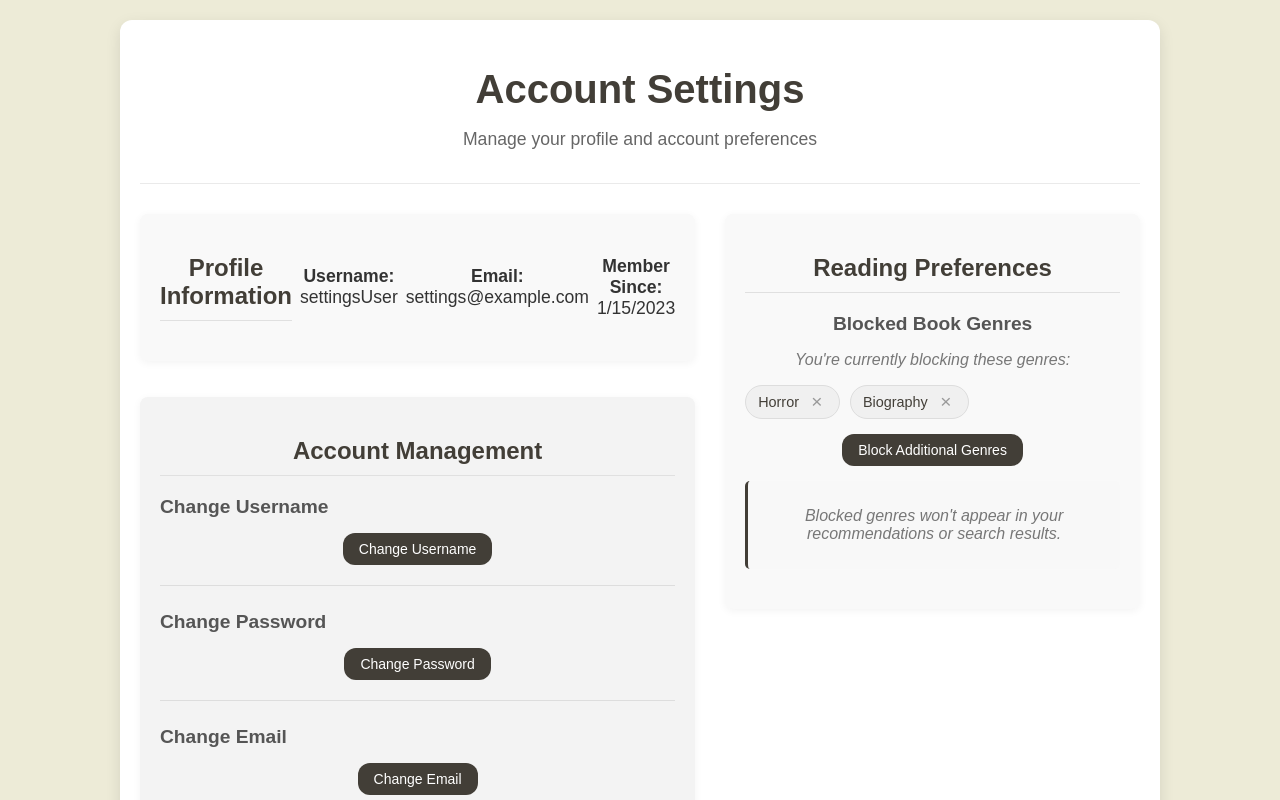
it: Settings Component › shows error if new email is empty and handles successful email update with logout
The width and height of the screenshot is (1280, 800).
Step 1. Click the button "Change Email" → [418, 779], box [358, 763, 478, 795]
(page scrolled)
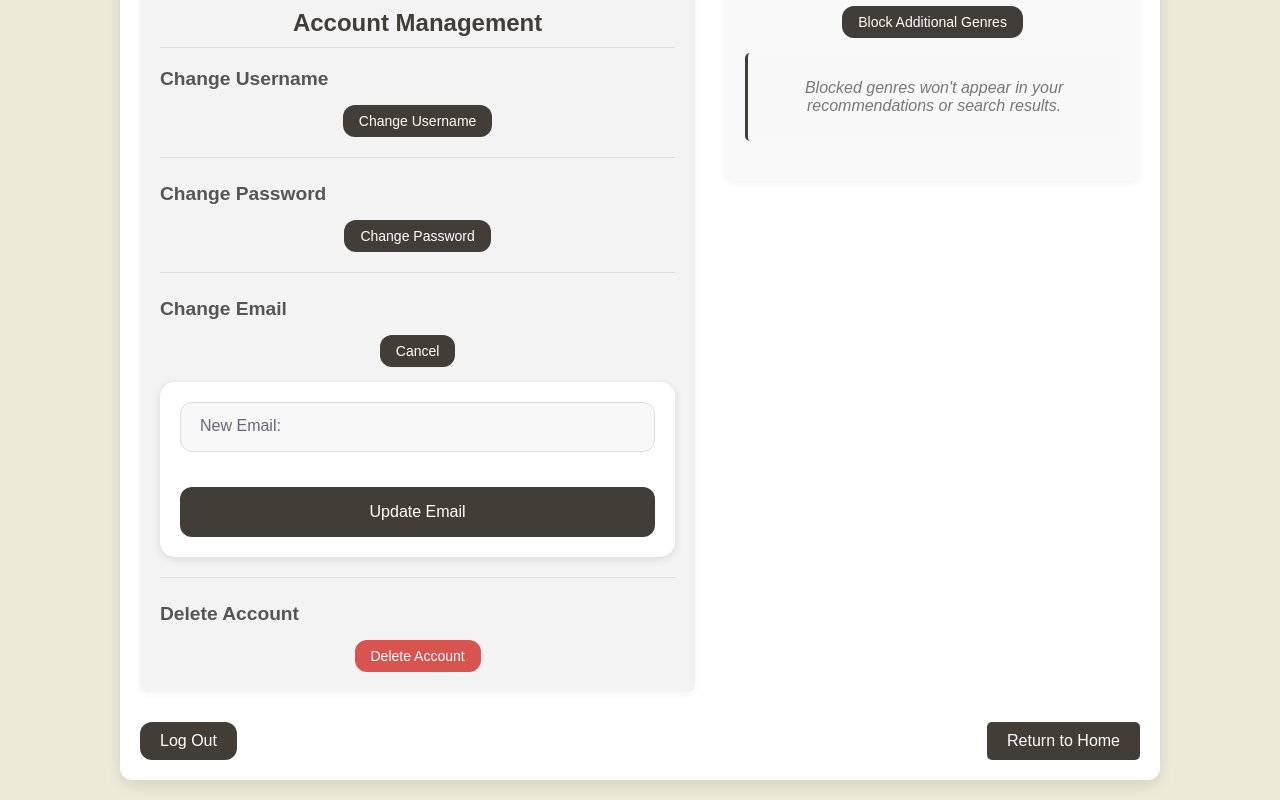
Result: the field labelled "New Email:" is shown
Step 2. Clear the field labelled "New Email:" → [418, 427], box [180, 402, 655, 452]
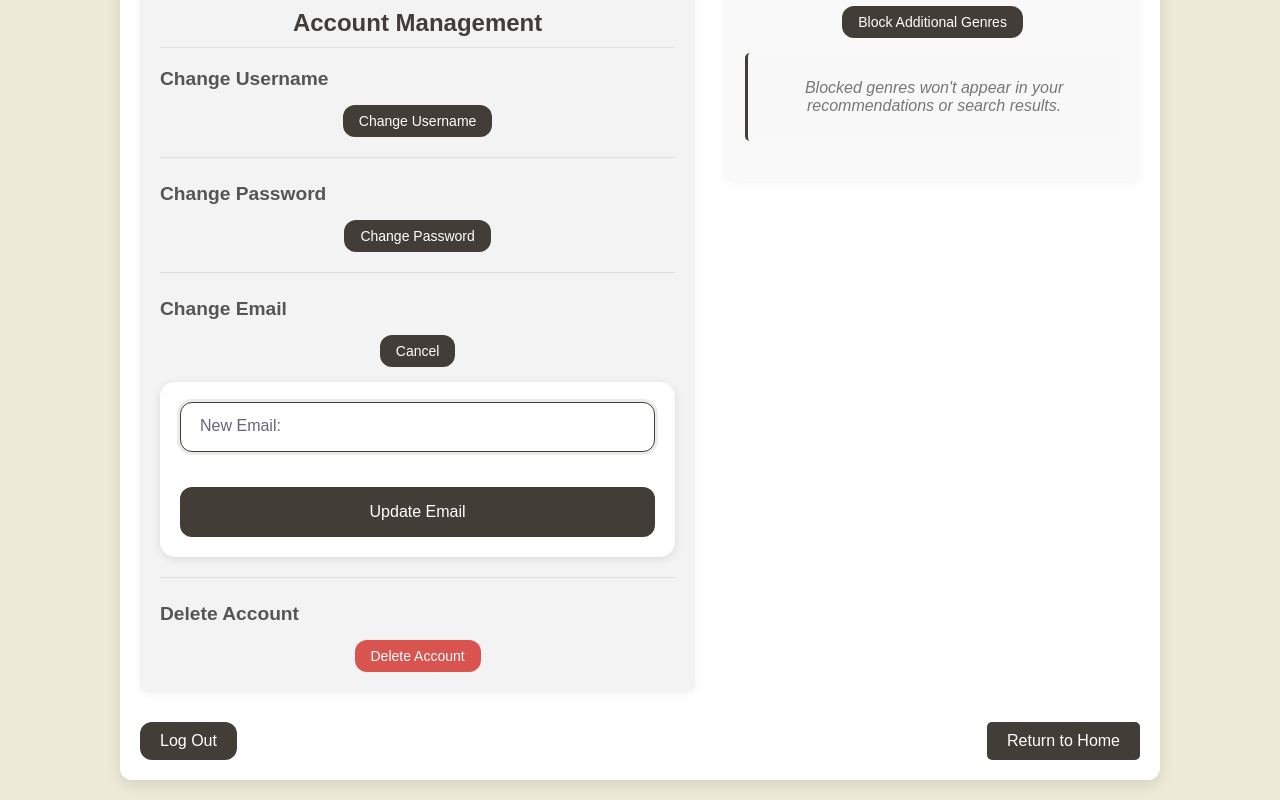
Step 3. Submit the form, box [160, 382, 675, 557]
Step 4. Type "newemail@example.com" into the field labelled "New Email:" → [418, 427], box [180, 402, 655, 452]
(page scrolled)
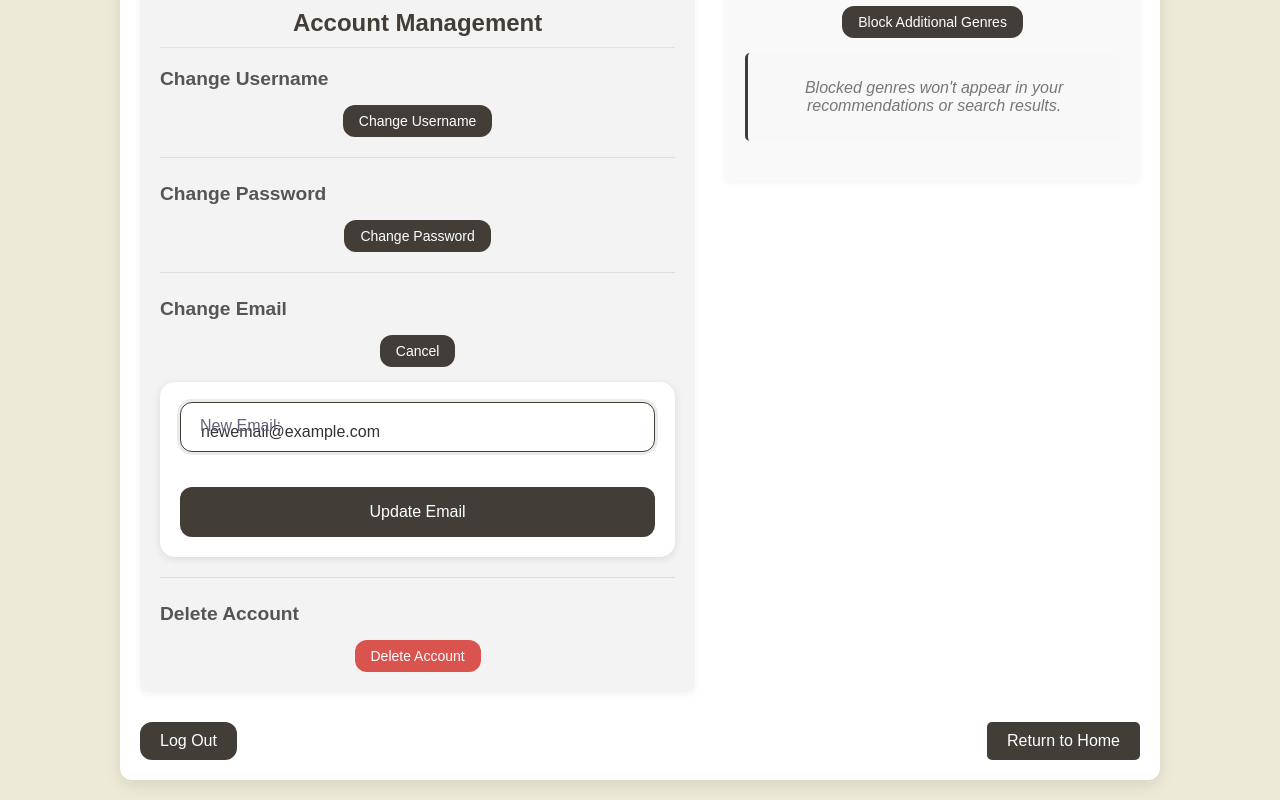
Step 5. Submit the form, box [160, 382, 675, 557]
(page scrolled)
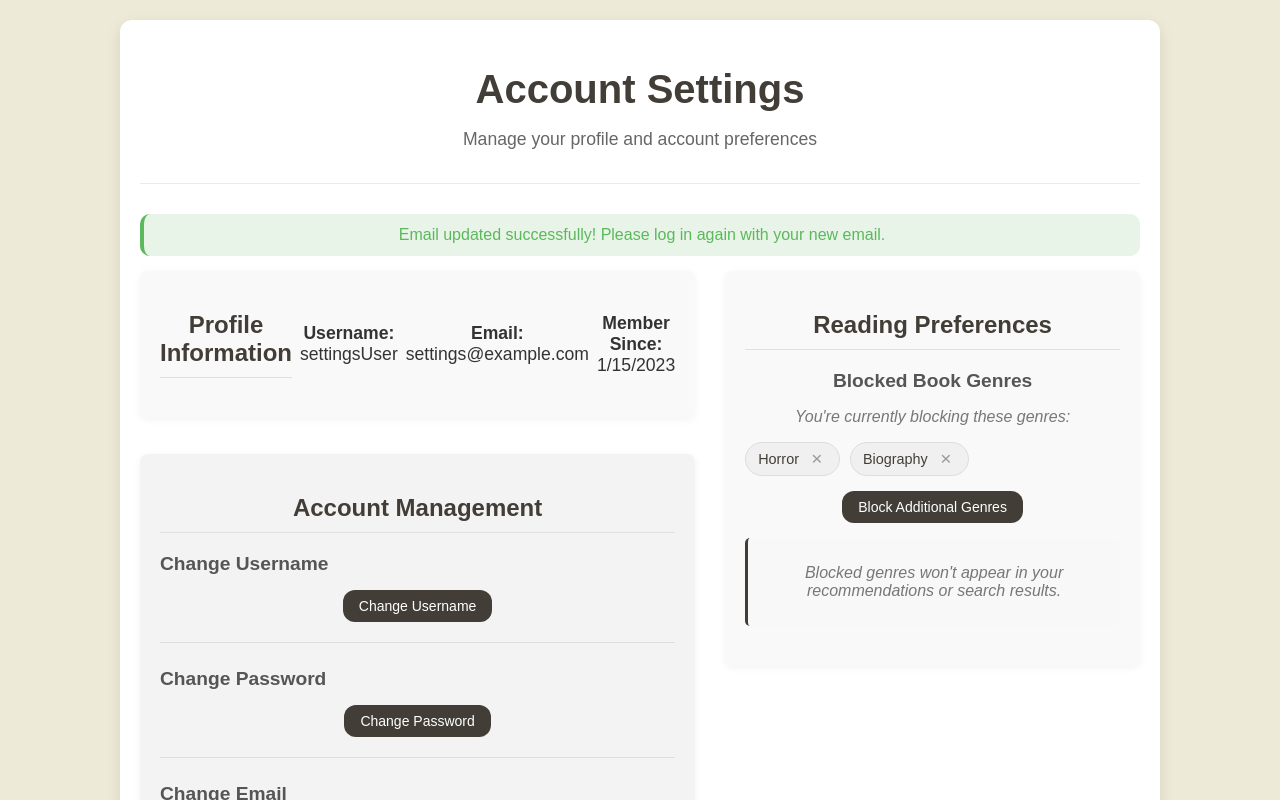
Result: the text "Email updated successfully" is shown at [399, 226, 885, 243]
